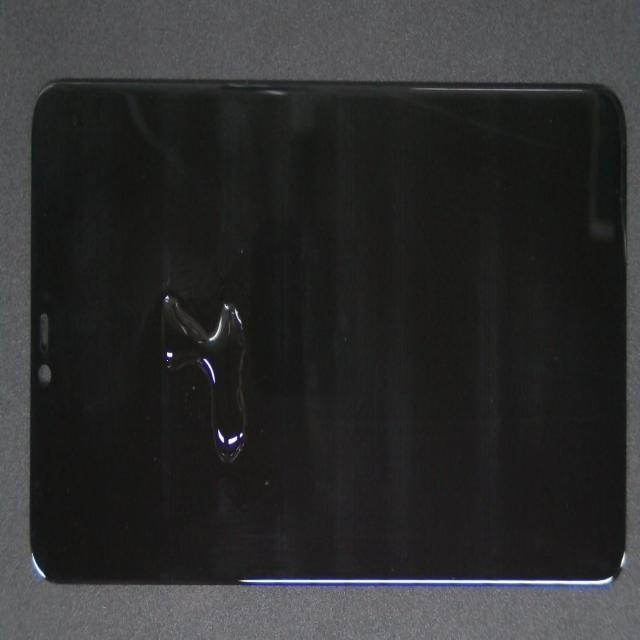oil: (123, 165, 354, 468)
